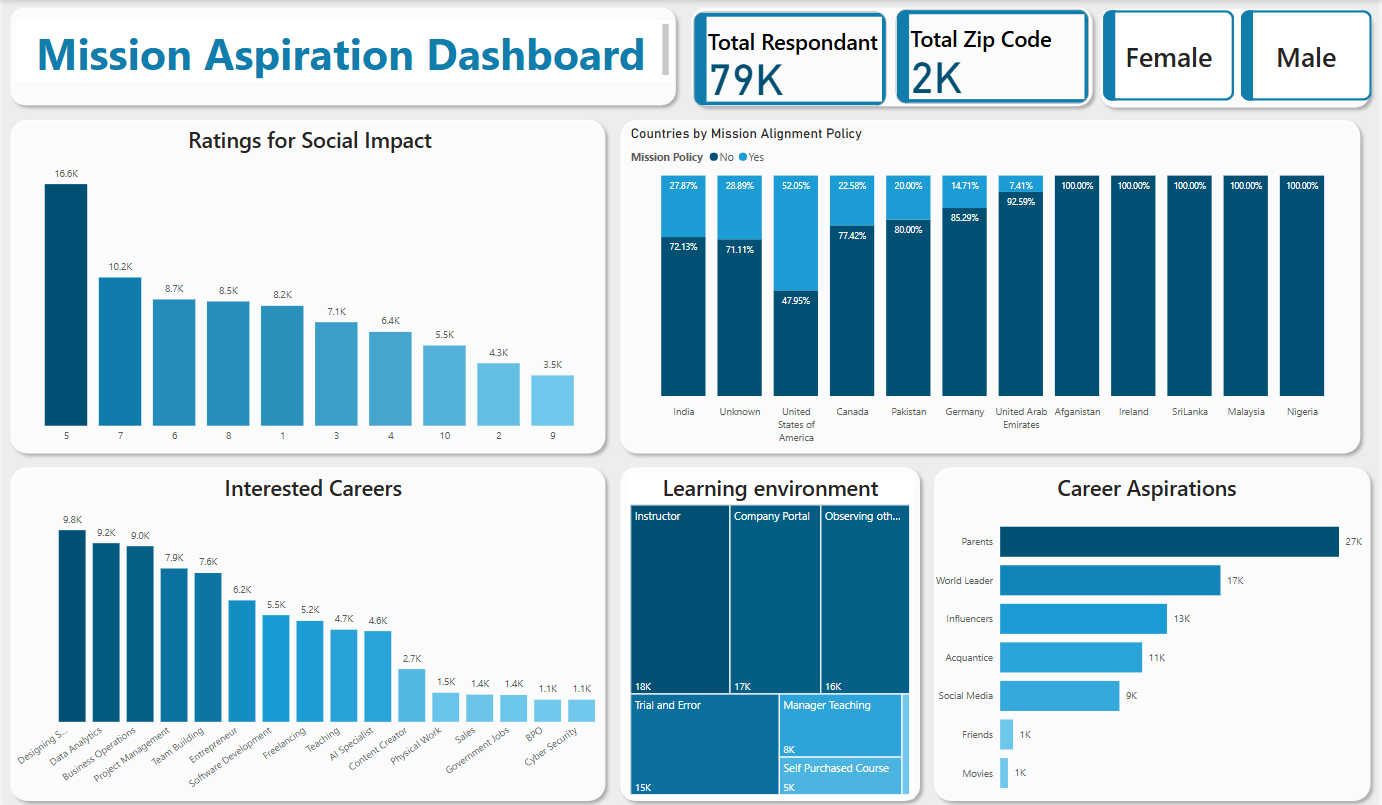

The dashboard page shown, as its layout file describes it:
{"tool":"powerbi","page":{"name":"Mission Aspirations Dashboard","canvas":[1700,1000],"ordinal":1},"visuals":[{"type":"shape","box":[1348.6,1.8,351.7,140.3],"z":0},{"type":"shape","box":[842,0,513.9,140.3],"z":1000},{"type":"advancedSlicerVisual","fields":{"Values":["Table1_1 (2).Gender"]},"box":[1356.5,8.4,343.5,122.3],"z":2000},{"type":"shape","box":[754,569.7,388.7,430.6],"z":3000},{"type":"shape","box":[754,139.1,933.3,430.6],"z":4000},{"type":"shape","box":[1142.8,569.7,558,430.6],"z":5000},{"type":"shape","box":[0,139.1,754,430.6],"z":6000},{"type":"shape","box":[0,0,841.2,139.1],"z":7000},{"type":"shape","box":[0,569.7,754,430.6],"z":8000},{"type":"clusteredColumnChart","title":"Interested Careers","fields":{"Category":["Table1_1 (2).Aspirations"],"Y":["Table1_1 (2).Total Respondant"]},"box":[11.7,584.8,742.3,415.6],"z":9000},{"type":"treemap","title":"Learning environment","fields":{"Group":["Table1_1 (2).Learning environment"],"Values":["Table1_1 (2).Total Respondant"]},"box":[770.8,584.8,355.2,403.8],"z":10000},{"type":"barChart","title":"Career Aspirations ","fields":{"Category":["Table1_1 (2).Career Aspirations "],"Y":["Table1_1 (2).Total Respondant"]},"box":[1142.8,584.8,544.6,415.6],"z":11000},{"type":"hundredPercentStackedColumnChart","title":"Countries by Mission Alignment Policy","fields":{"Category":["Table1_1 (2).Country"],"Series":["Table1_1 (2).Mission Policy"],"Y":["Table1_1 (2).Total Respondant"]},"box":[770.8,154.2,896.5,402.1],"z":12000},{"type":"clusteredColumnChart","title":"Ratings for Social Impact","fields":{"Category":["Table1_1 (2).Ratings for Social Impact"],"Y":["Table1_1 (2).Total Respondant"]},"box":[20.1,154.2,718.8,402.1],"z":13000},{"type":"cardVisual","fields":{"Data":["Table1_1 (2).Total Respondant"]},"box":[849.3,9.1,249.7,127.6],"z":14000},{"type":"cardVisual","fields":{"Data":["Table1_1 (2).Total Zip Code"]},"box":[1099,5.5,249.7,127.6],"z":15000},{"type":"textbox","box":[15.1,25.1,812.7,77.1],"z":16000}]}

Visuals, with their boxes in screenshot pixels (x1, y1, x2, y2), scaled from the page's 1700x1000 canvas onto the 1382x805 screenshot:
shape: <box>1096,1,1381,114</box>
shape: <box>684,0,1102,113</box>
advancedSlicerVisual - Table1_1 (2).Gender: <box>1103,7,1381,105</box>
shape: <box>613,459,929,804</box>
shape: <box>613,112,1372,459</box>
shape: <box>929,459,1381,804</box>
shape: <box>0,112,613,459</box>
shape: <box>0,0,684,112</box>
shape: <box>0,459,613,804</box>
"Interested Careers" clusteredColumnChart: <box>10,471,613,804</box>
"Learning environment" treemap: <box>627,471,915,796</box>
"Career Aspirations " barChart: <box>929,471,1372,804</box>
"Countries by Mission Alignment Policy" hundredPercentStackedColumnChart: <box>627,124,1355,448</box>
"Ratings for Social Impact" clusteredColumnChart: <box>16,124,601,448</box>
cardVisual - Table1_1 (2).Total Respondant: <box>690,7,893,110</box>
cardVisual - Table1_1 (2).Total Zip Code: <box>893,4,1096,107</box>
textbox: <box>12,20,673,82</box>
